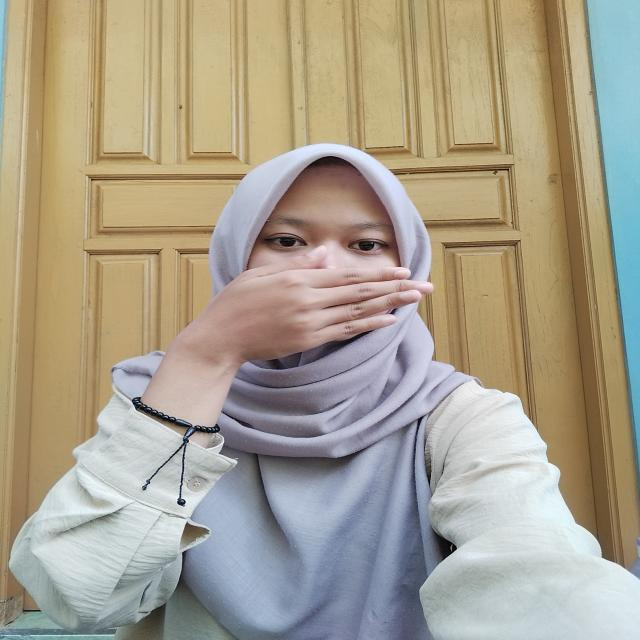buruk: (166, 238, 449, 367)
